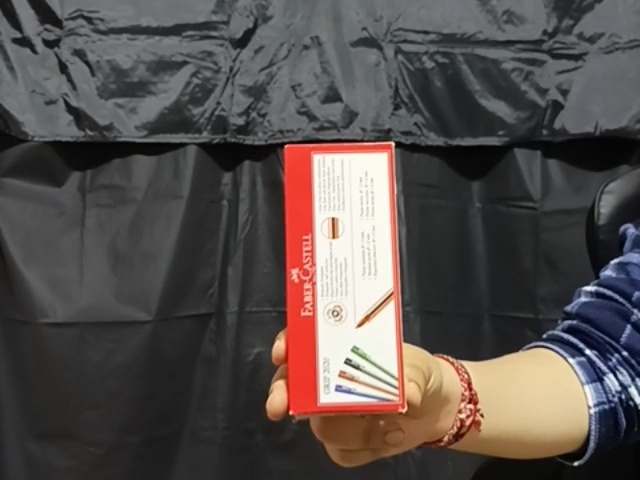xd: (283, 141, 408, 413)
